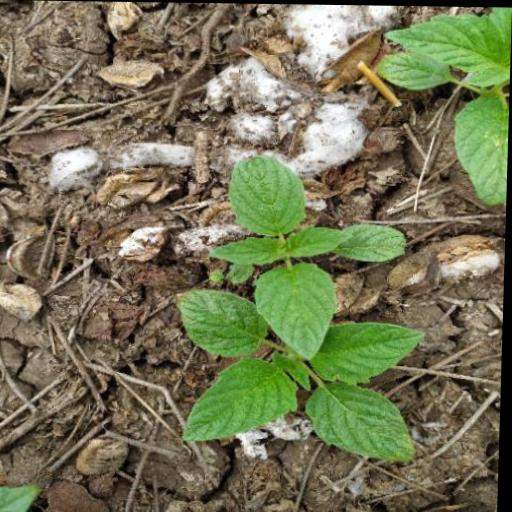crop: (169, 146, 434, 480), (373, 4, 512, 209)
